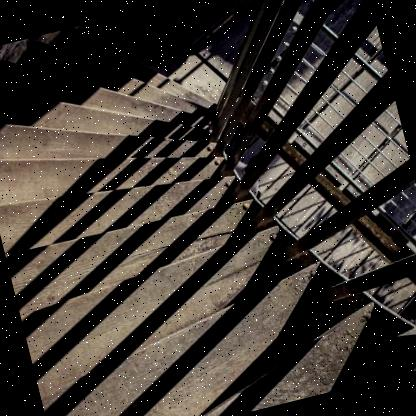stair: (0, 46, 330, 416)
